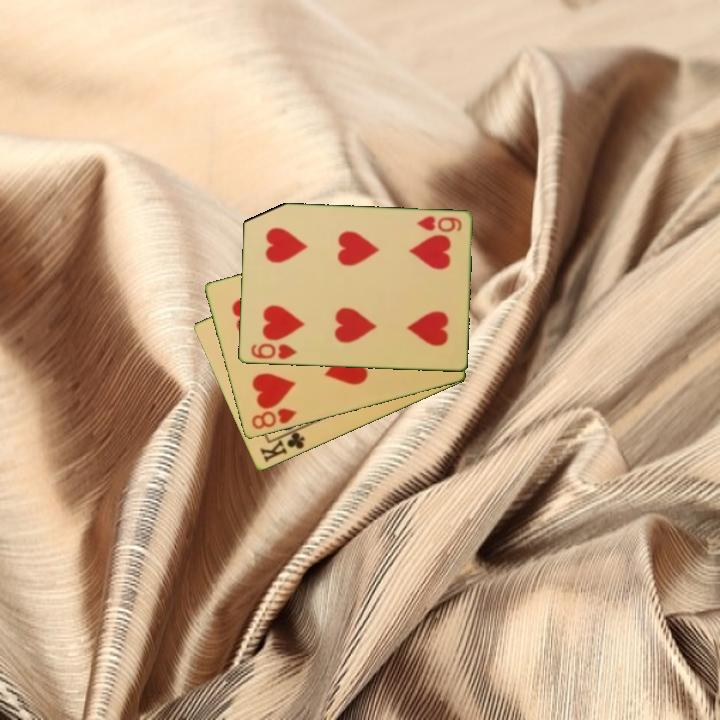6h: (247, 340, 299, 362), (413, 213, 464, 235)
8h: (248, 405, 300, 432)
Kc: (256, 424, 308, 466)
